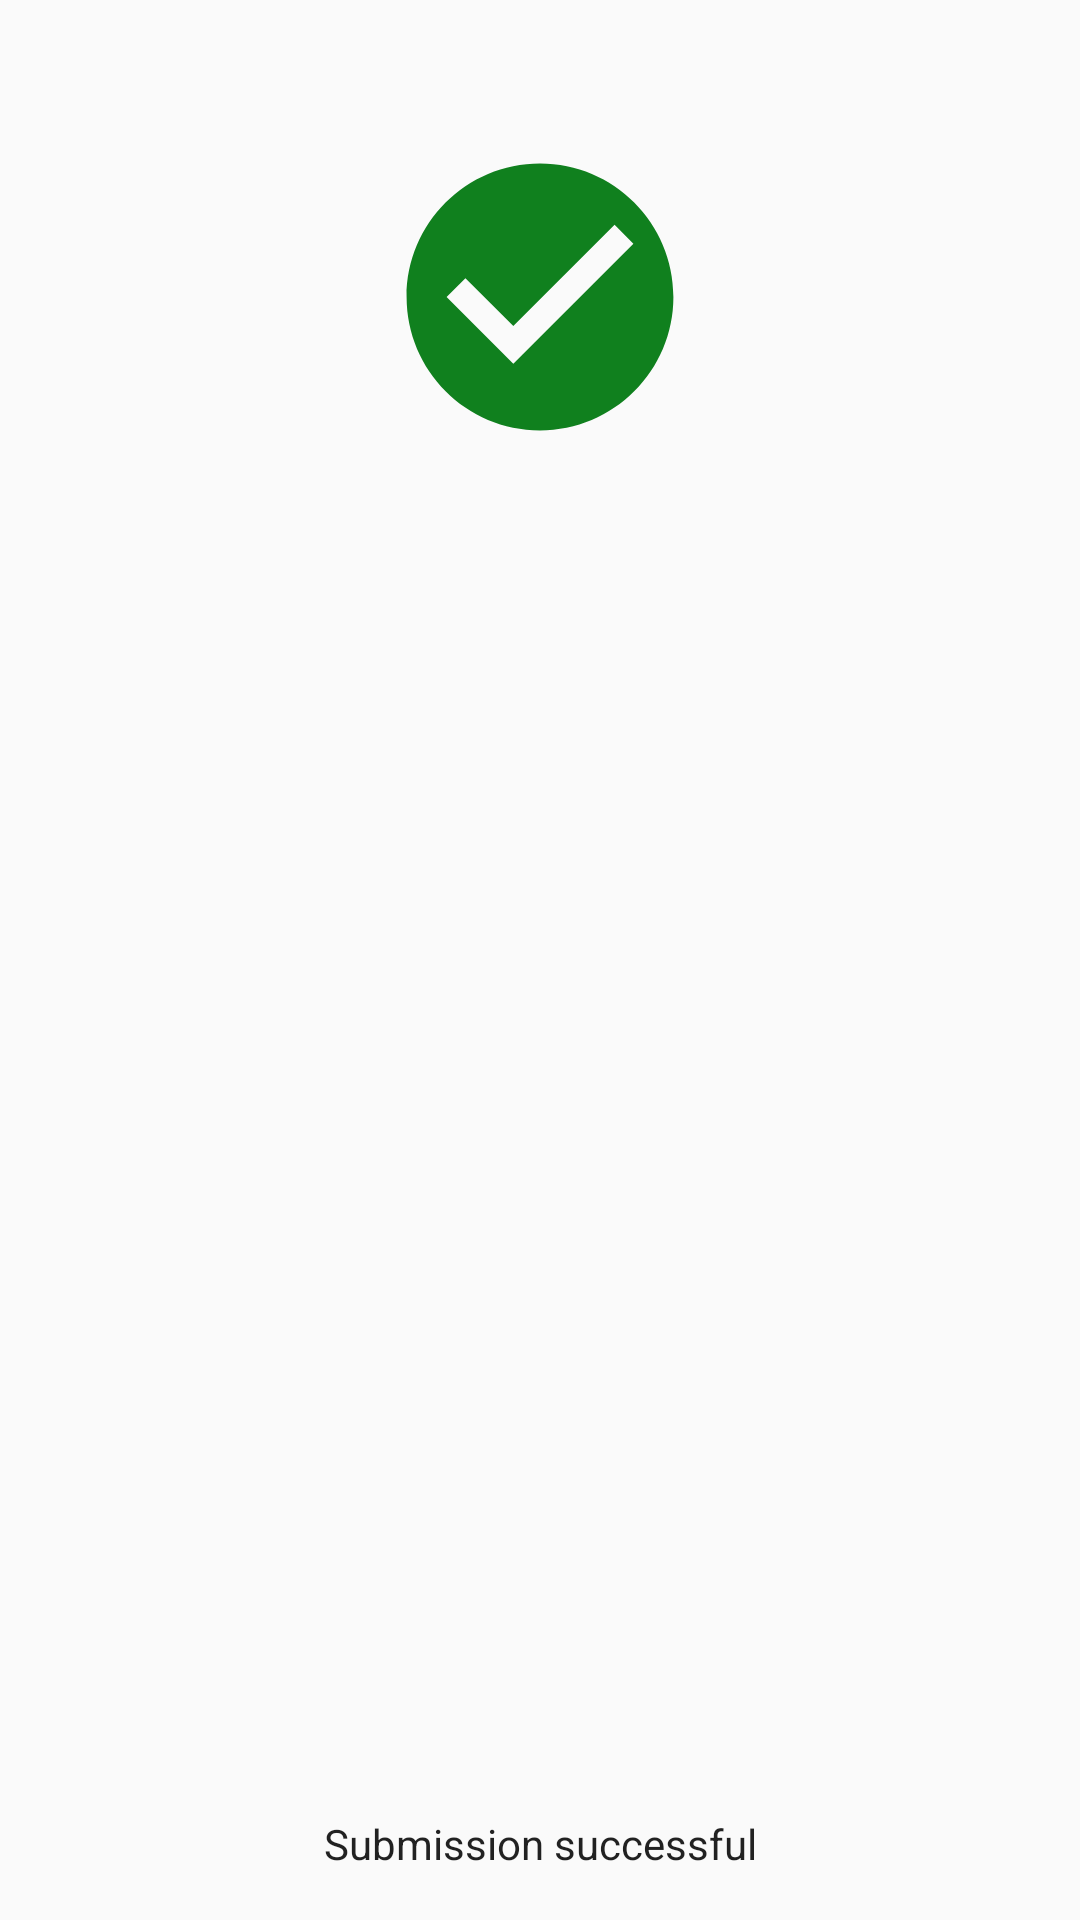

Icons on this 1080px x 1920px Android screen, each with its box as bbox=[x1, y1, x2, y2]:
success: bbox=[406, 163, 674, 431]
